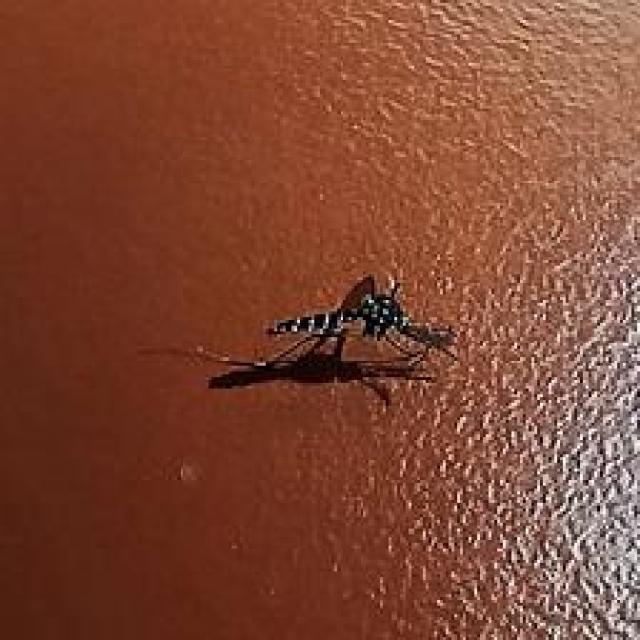Aedes albopictus: (264, 271, 459, 366)
